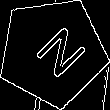N_SW: (20, 20, 85, 84)
